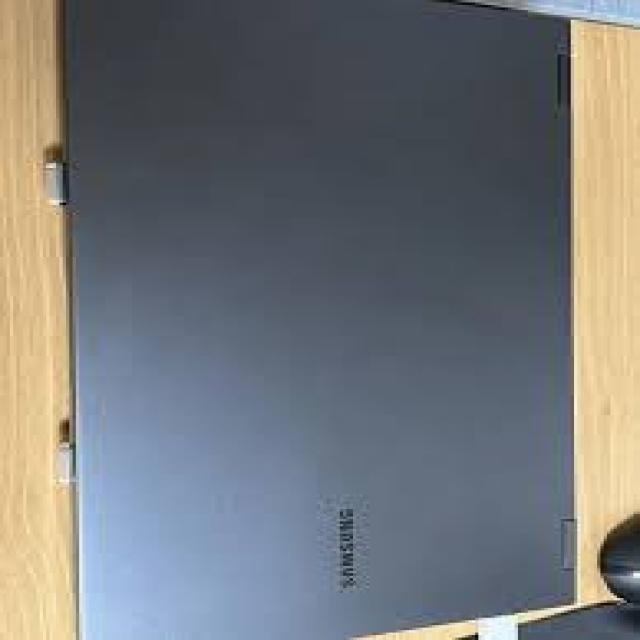laptop: (58, 0, 595, 638)
